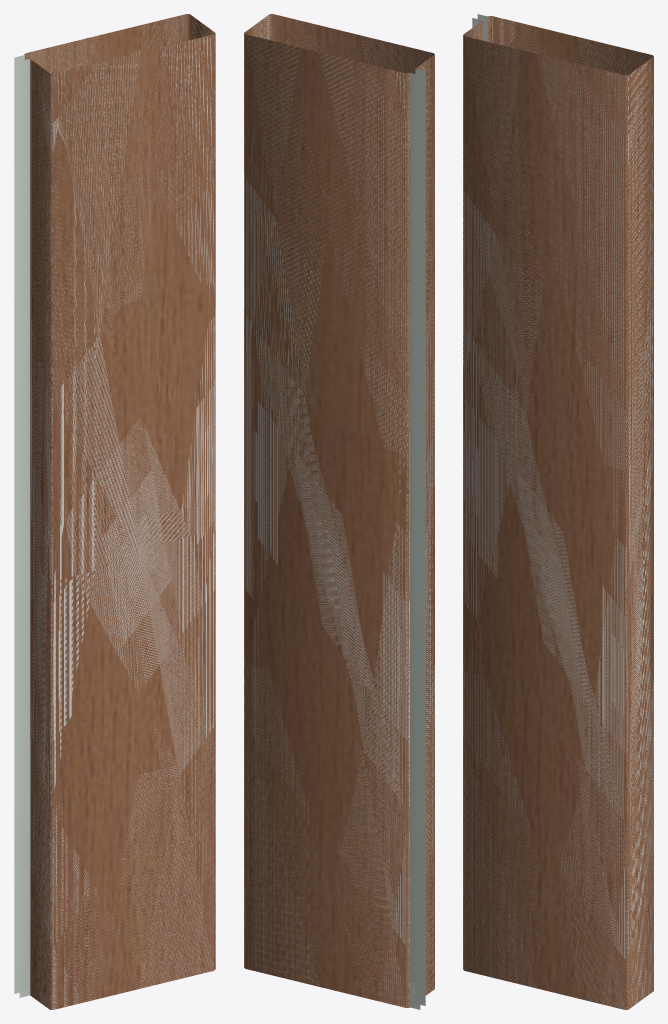
File: original-32.obj
3 renders of one model, left to right at view 1: azimuth 30°, elevation 25°; view 2: azimuth 150°, elevation 25°; view 3: azimuth 330°, elevation 25°, orthographic.
Parts seen in each view (by area): view 1: RB_31_BC1/RB_31_BC/mesh20/mesh20-geometry#mesh20-geometry; view 2: RB_31_BC1/RB_31_BC/mesh20/mesh20-geometry#mesh20-geometry; view 3: RB_31_BC1/RB_31_BC/mesh20/mesh20-geometry#mesh20-geometry.
Boxes of the visible parts, x1,y1,x2,y2 form: RB_31_BC1/RB_31_BC/mesh20/mesh20-geometry#mesh20-geometry: (14, 14, 215, 1009); RB_31_BC1/RB_31_BC/mesh20/mesh20-geometry#mesh20-geometry: (244, 14, 434, 1009); RB_31_BC1/RB_31_BC/mesh20/mesh20-geometry#mesh20-geometry: (463, 14, 653, 1009).
Size of the model in its own units: 0.0737 by 0.3748 by 0.02.
